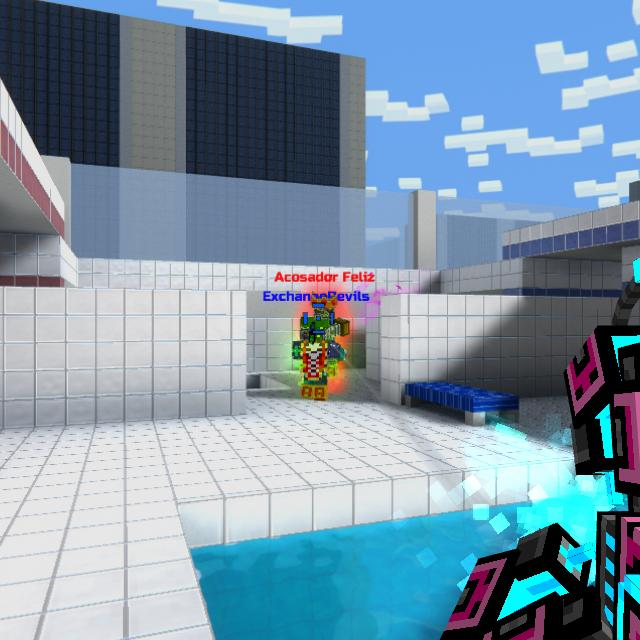Enemy: (299, 294, 350, 339)
